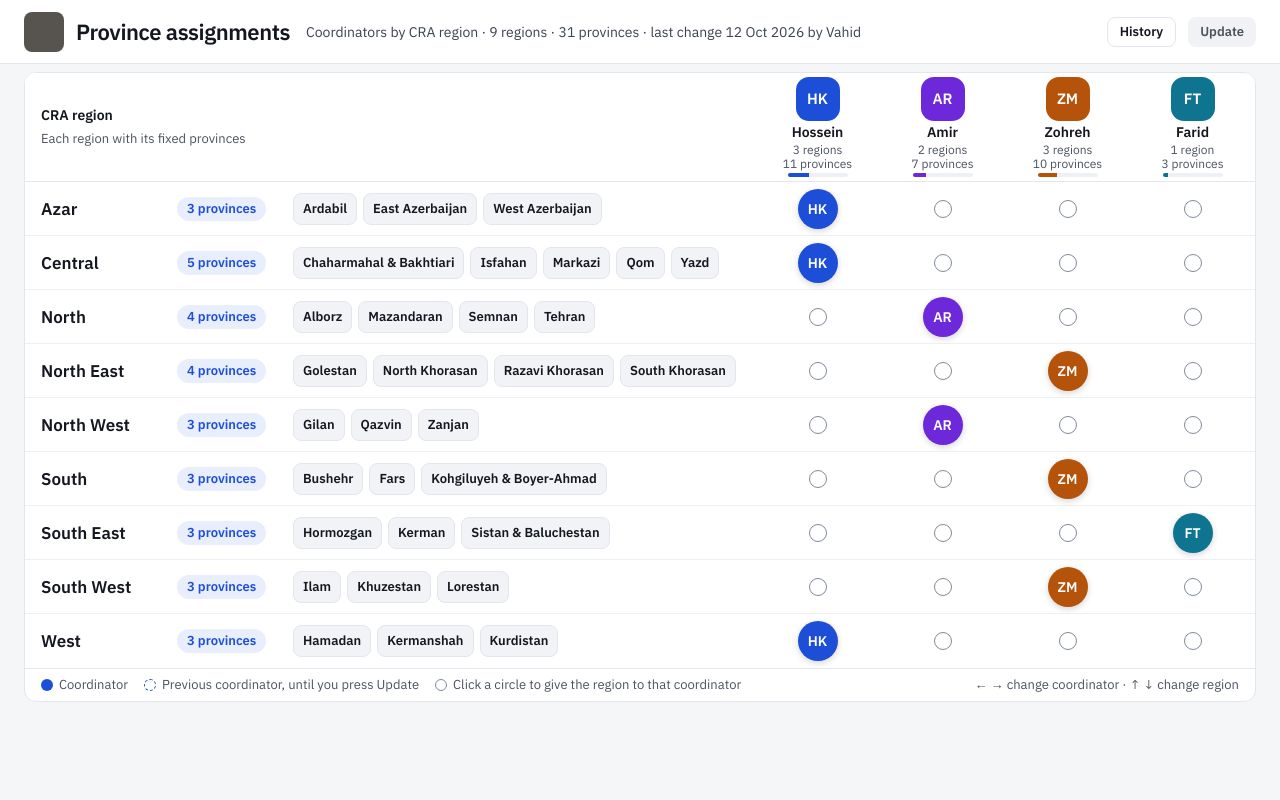
Test case: editing › a click moves the owner, marks the row and updates the counts
Check: the element named "Coordinator for Central" is shown, box [25,236,1255,290]
Check: the button "Update" is disabled, box [1188,17,1256,47]
Click the radio button named "Zohreh" in the row of "Yazd" at (1068, 262), box [1046,240,1090,284]
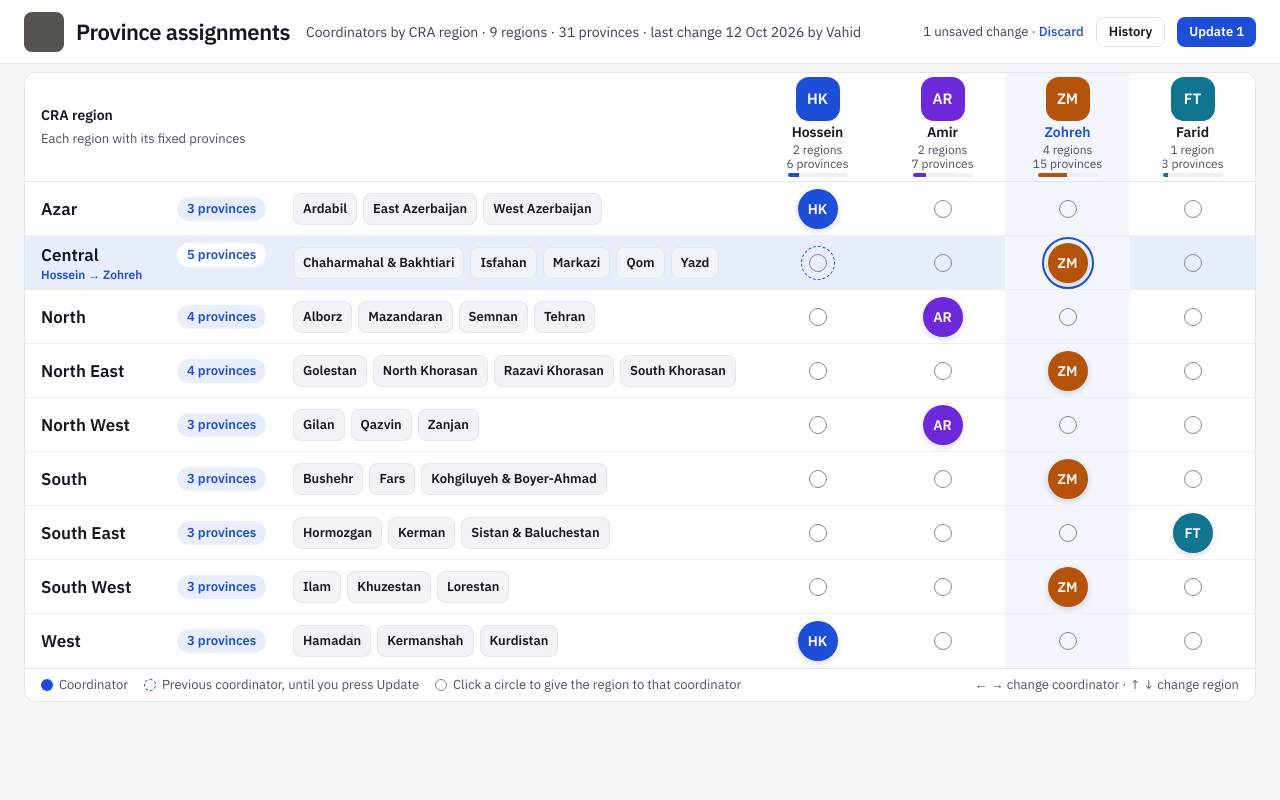
Check: the text "Hossein → Zohreh" is shown, box [41,266,142,282]
Check: the text "1 unsaved change · Discard" is shown, box [923,21,1084,43]
Check: the button "Update 1" is shown, box [1177,17,1256,47]
